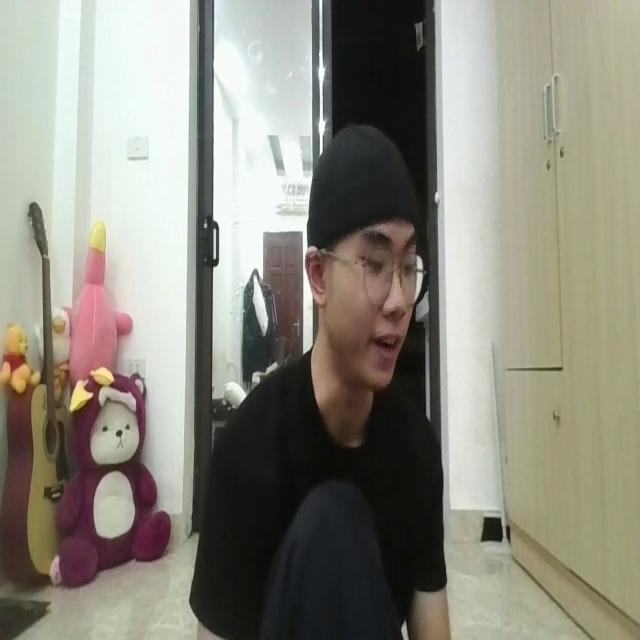student: (186, 113, 448, 640)
